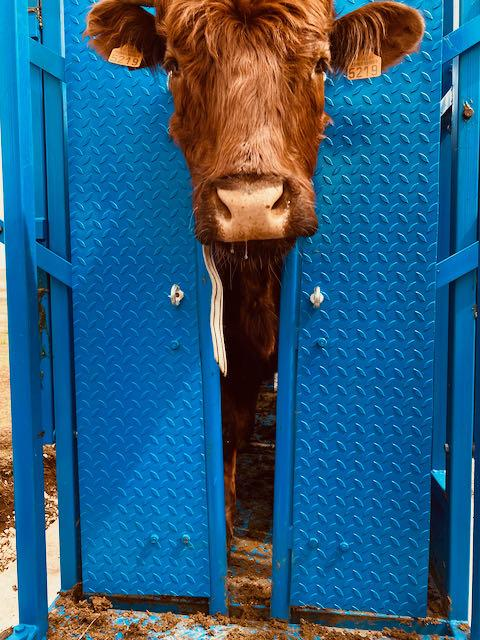muzzles: (186, 181, 321, 251)
